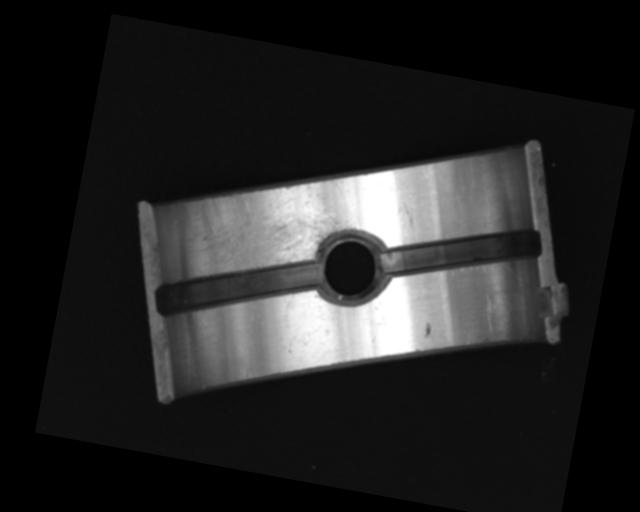bruise: (422, 320, 434, 338)
gap: (153, 236, 322, 343), (378, 202, 544, 299)
hole: (307, 223, 396, 314)
nick: (476, 292, 501, 338), (395, 201, 423, 242)
scratch: (180, 146, 366, 300)
